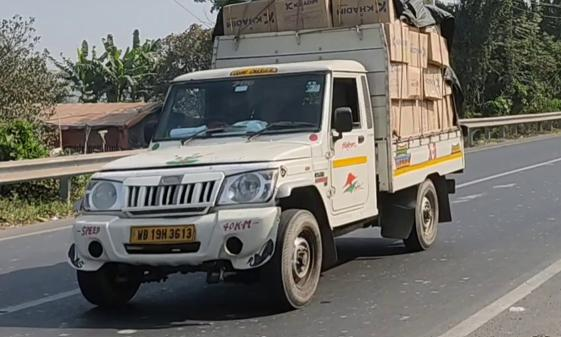Truck: (62, 15, 466, 309)
